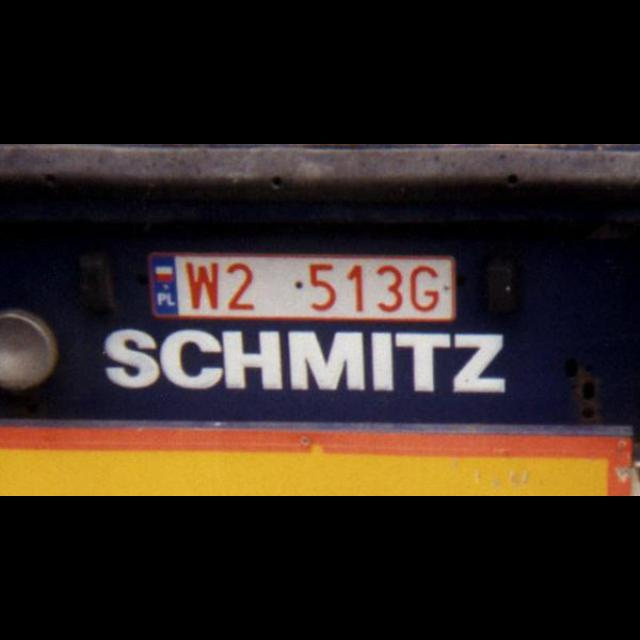pl_license_plate: (150, 254, 454, 318)
